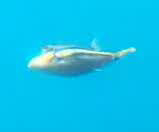smallfish: (21, 33, 144, 86)
